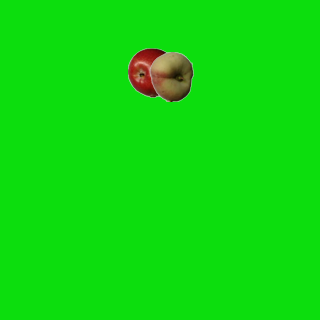Apple Braeburn: (127, 47, 177, 97)
Peach Flat: (146, 51, 196, 101)
